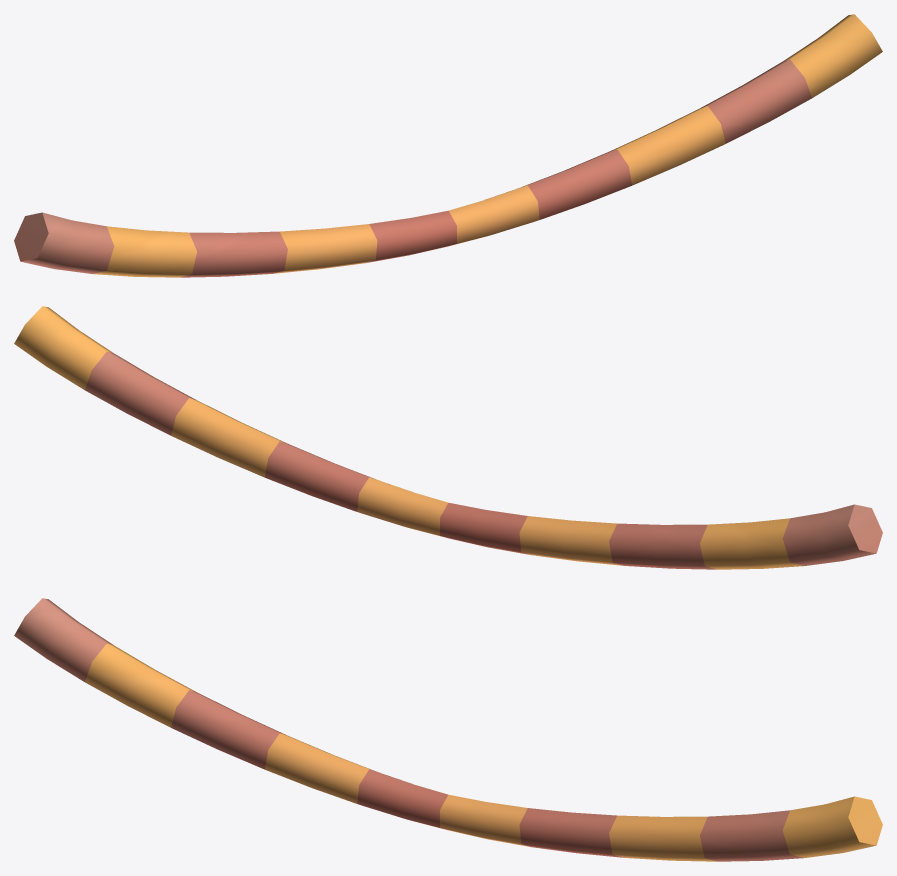
The model's file is Fence_02.glb.
3 renders of one model, top to bottom at view 1: azimuth 30°, elevation 25°; view 2: azimuth 150°, elevation 25°; view 3: azimuth 330°, elevation 25°, orthographic.
Visible parts, largest first — view 1: Fence_02; view 2: Fence_02; view 3: Fence_02.
Boxes of the visible parts, x1=… form: Fence_02: x1=14, y1=14, x2=882, y2=277; Fence_02: x1=14, y1=306, x2=882, y2=569; Fence_02: x1=14, y1=598, x2=882, y2=861.
Bounding box in the file's own units: 3.9 × 0.5785 × 0.1864.
Materials: 1 (1 with a texture image).
